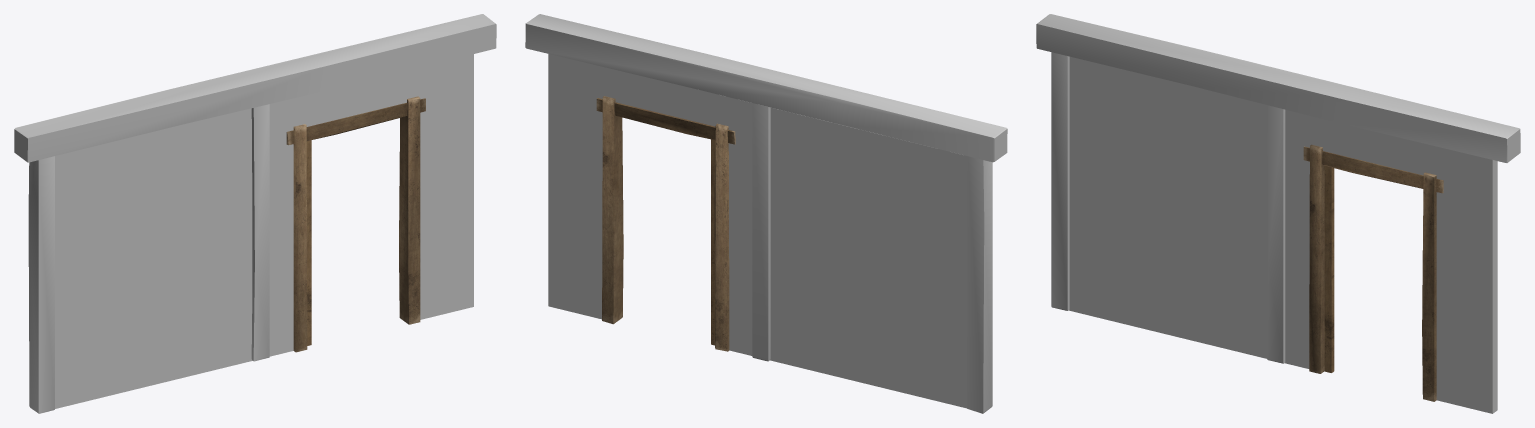
File: SM_WallElement_06_COLL.FBX
The picture shows the model from 3 angles, left to right: view 1: azimuth 30°, elevation 25°; view 2: azimuth 150°, elevation 25°; view 3: azimuth 330°, elevation 25°; orthographic projection.
Parts seen in each view (by area): view 1: SM_WallElement_06_COLL; view 2: SM_WallElement_06_COLL; view 3: SM_WallElement_06_COLL.
Boxes of the visible parts, left/top/right/bottom form: SM_WallElement_06_COLL: left=14, top=14, right=496, bottom=413; SM_WallElement_06_COLL: left=525, top=14, right=1007, bottom=413; SM_WallElement_06_COLL: left=1036, top=14, right=1520, bottom=413.
Size of the model in its own units: 5.46 by 3.16 by 0.302.
